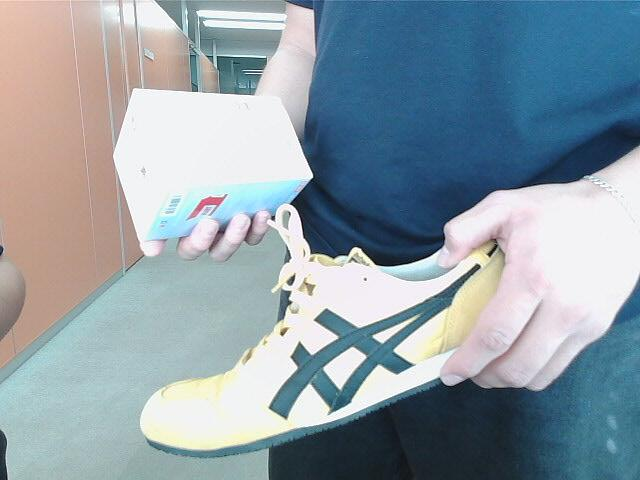Blind_box: (113, 88, 313, 238)
Shoes: (136, 228, 570, 460)
